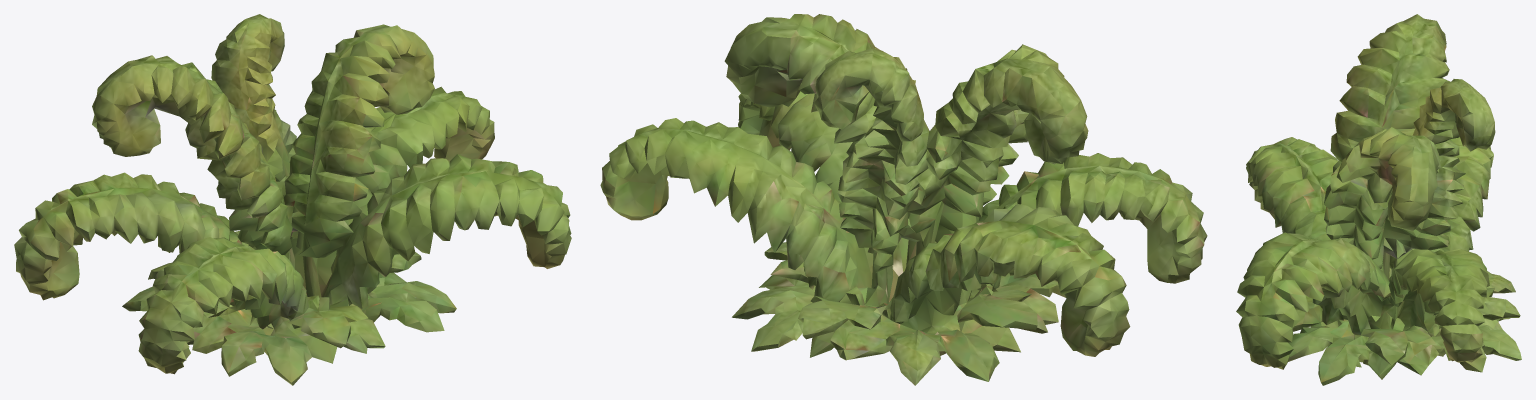
The model's file is helecho.glb.
3 renders of one model, left to right at view 1: azimuth 30°, elevation 25°; view 2: azimuth 150°, elevation 25°; view 3: azimuth 270°, elevation 25°, orthographic. The views are drawn at different scales.
Visible parts, largest first — view 1: helecho_malla; view 2: helecho_malla; view 3: helecho_malla.
Part boxes in pixels (left/top/right/bottom): helecho_malla: left=14, top=14, right=571, bottom=385; helecho_malla: left=600, top=14, right=1207, bottom=385; helecho_malla: left=1236, top=14, right=1521, bottom=385.
Size of the model in its own units: 0.3873 by 0.2246 by 0.2208.
1 material, 1 textured.
